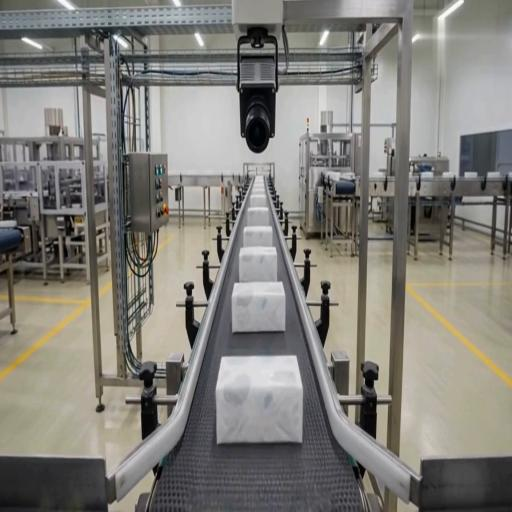good: (207, 346, 308, 453), (229, 281, 286, 333), (238, 247, 278, 283), (243, 225, 274, 248), (245, 206, 271, 226), (248, 189, 268, 207), (250, 176, 266, 187)
